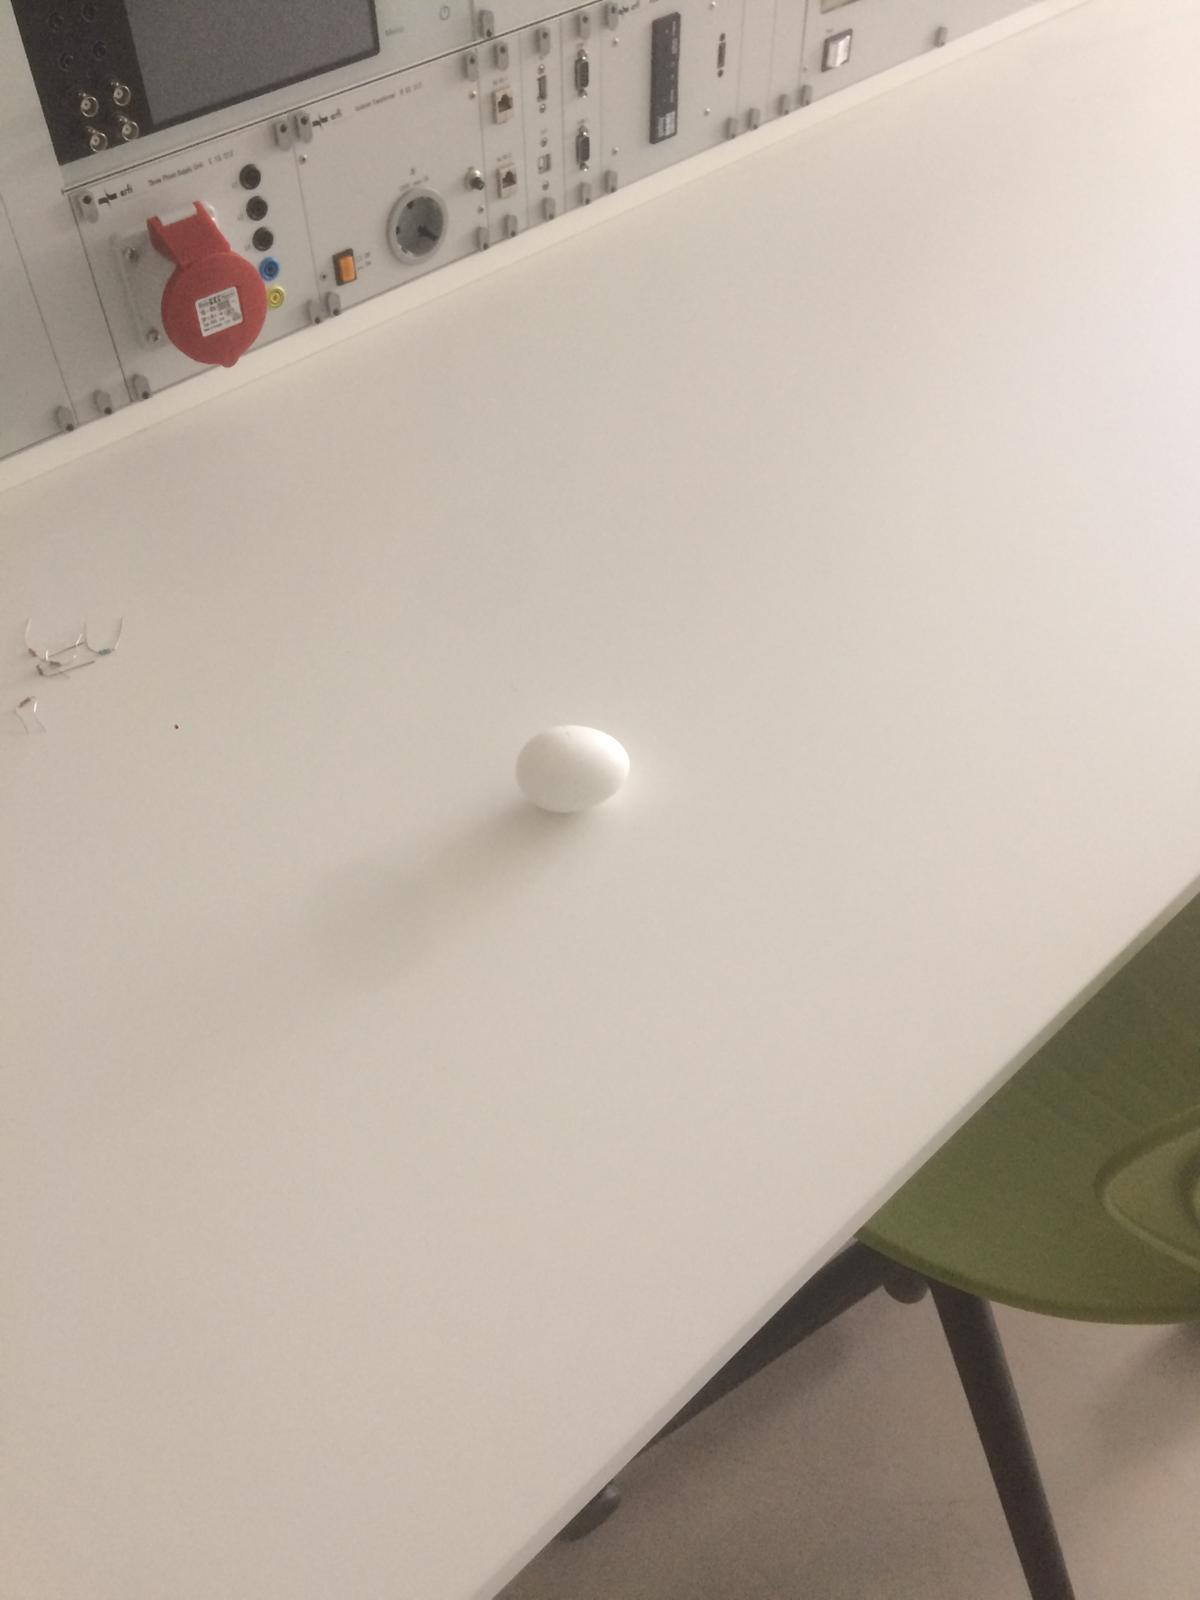egg: (508, 722, 642, 821)
